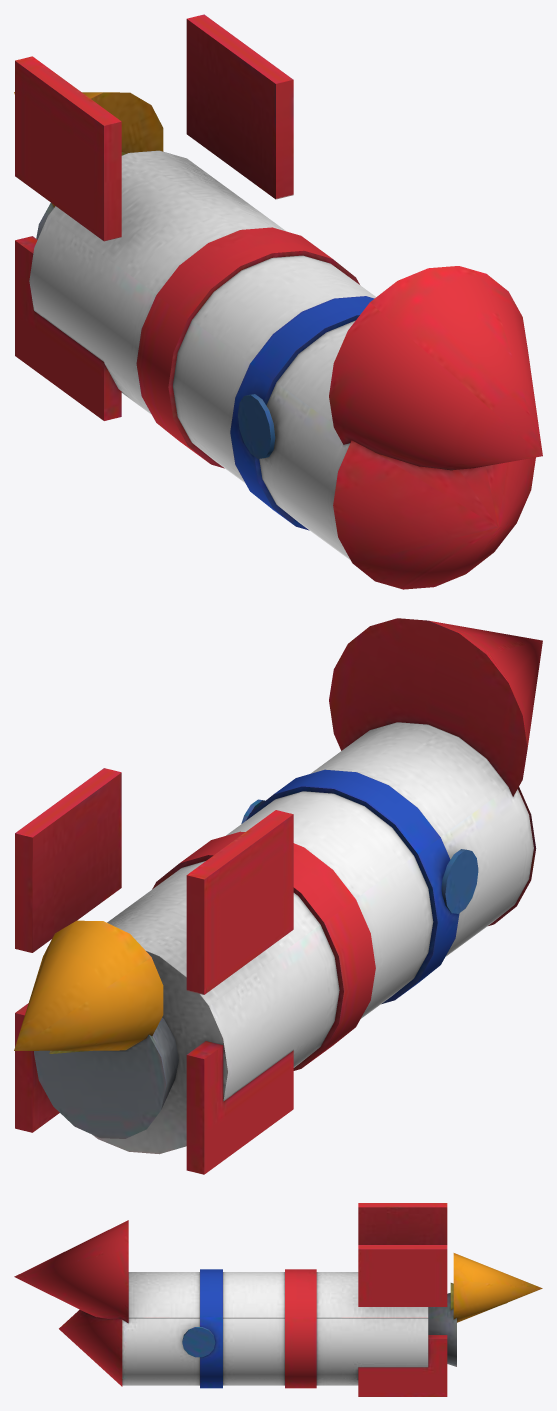
The model's file is cohete.glb.
The picture shows the model from 3 angles, top to bottom: view 1: azimuth 30°, elevation 25°; view 2: azimuth 150°, elevation 25°; view 3: azimuth 270°, elevation 25°; orthographic projection. The views are drawn at different scales.
Visible parts, largest first — view 1: cohete; view 2: cohete; view 3: cohete.
Part boxes in pixels (bbox=[...]): cohete: bbox=[14, 14, 542, 589]; cohete: bbox=[14, 618, 542, 1174]; cohete: bbox=[14, 1203, 542, 1396].
Size of the model in its own units: 0.94 by 1.37 by 4.15.
1 material, 1 textured.
